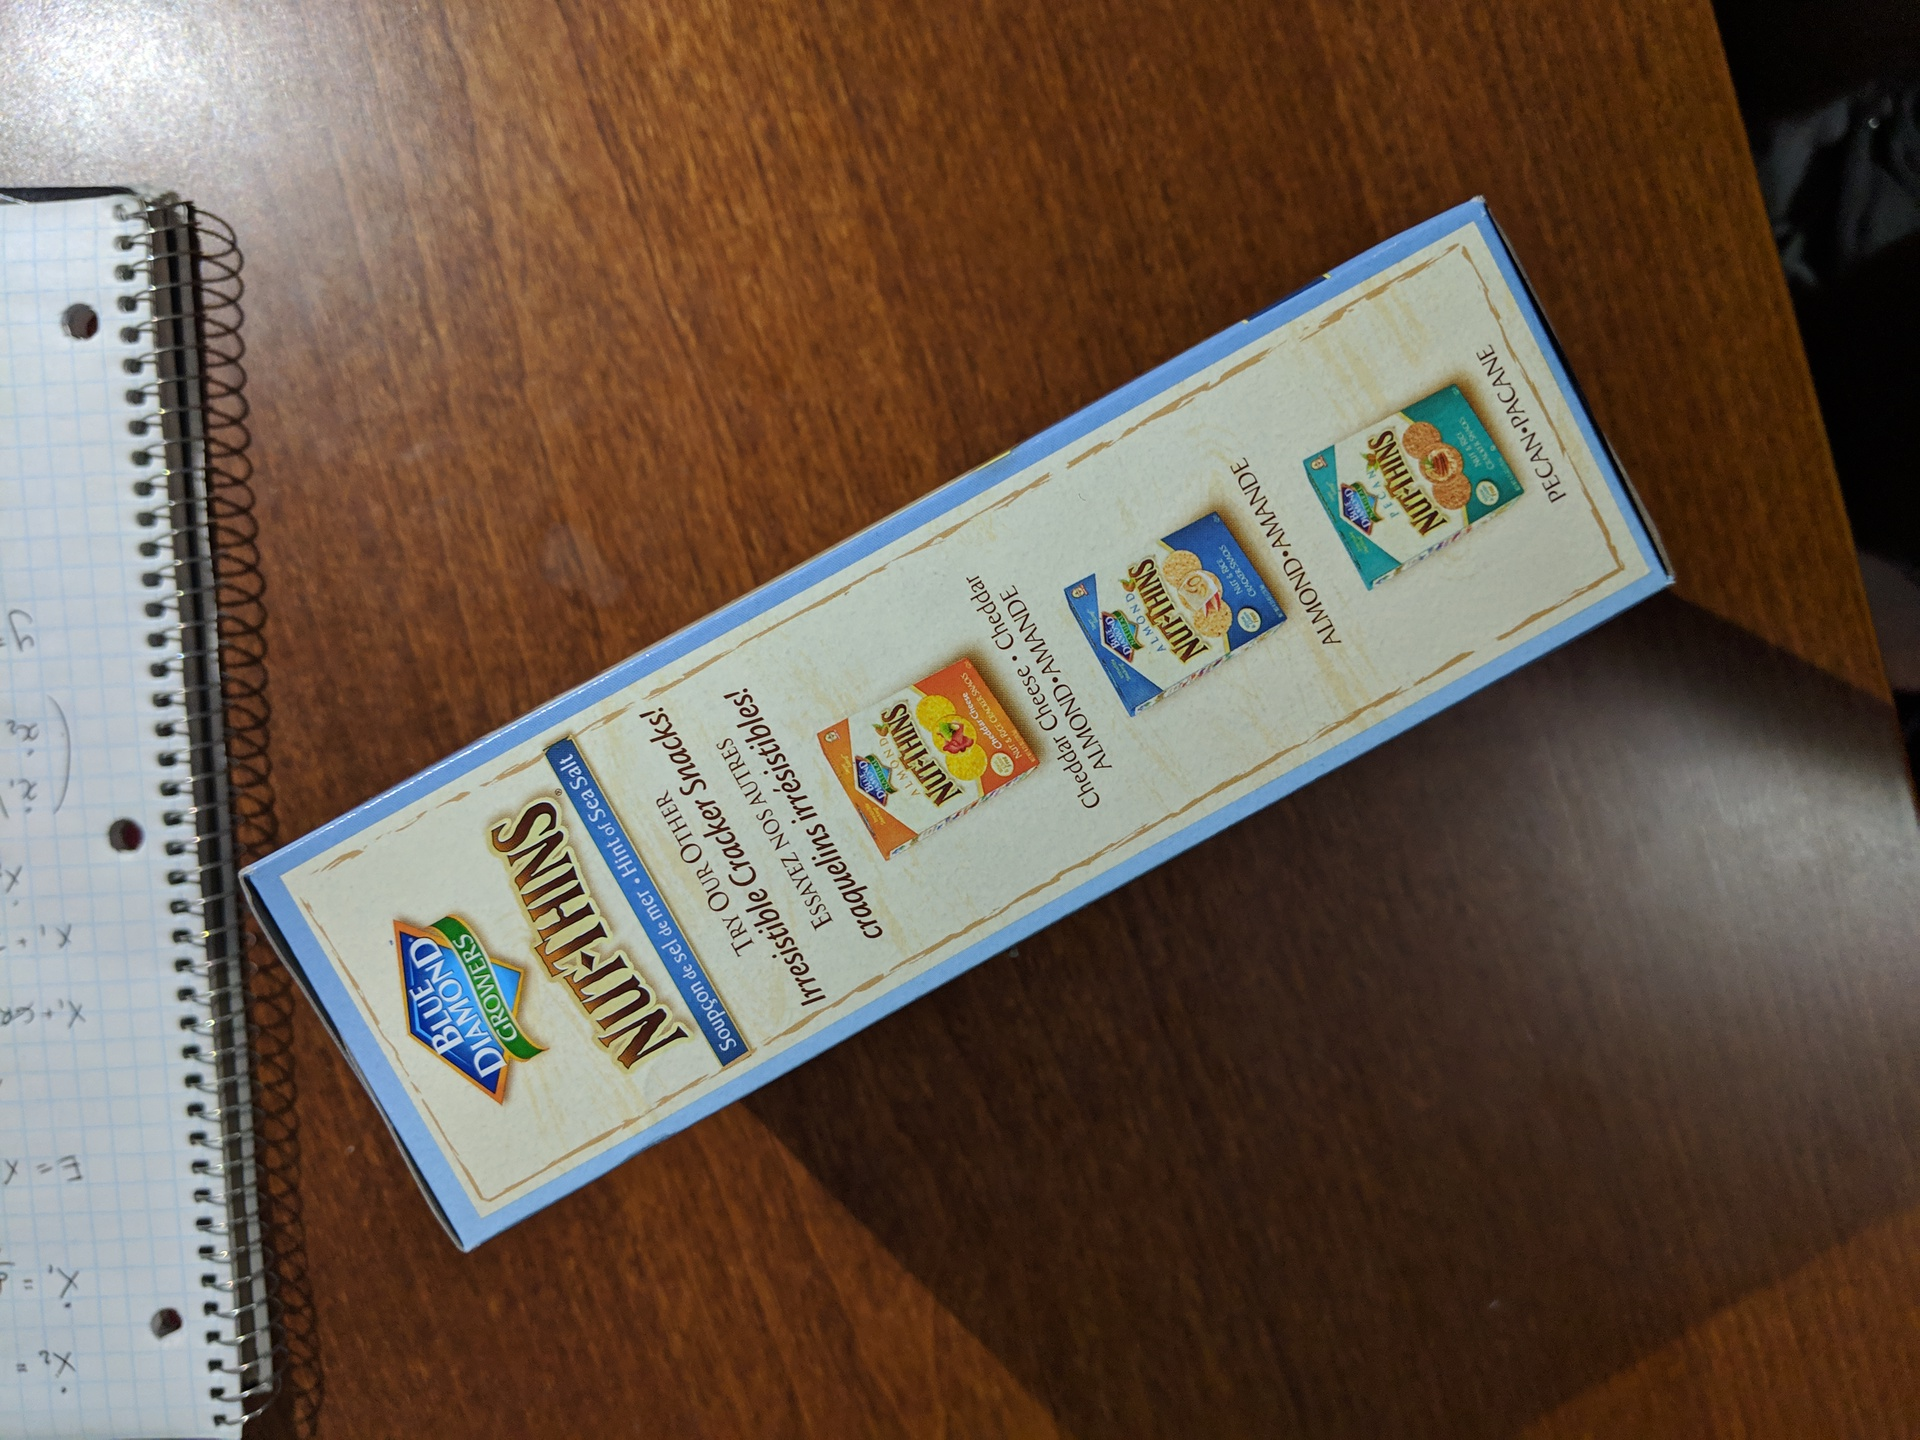blue_diamond_nut_thins_almond_seasalt: (345, 324, 1556, 1150)
